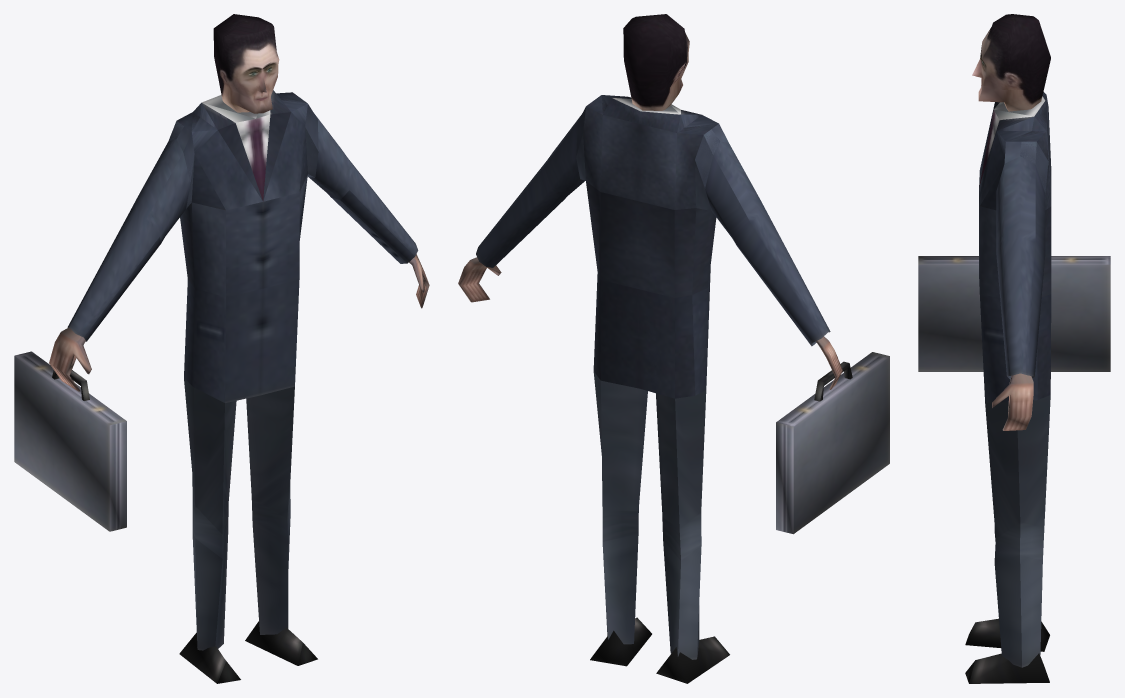
The model's file is G_Man.fbx.
3 renders of one model, left to right at view 1: azimuth 30°, elevation 25°; view 2: azimuth 150°, elevation 25°; view 3: azimuth 270°, elevation 25°, orthographic.
Parts seen in each view (by area): view 1: G_Man; view 2: G_Man; view 3: G_Man.
Boxes of the visible parts, <box> form: G_Man: <box>14,14,429,683</box>; G_Man: <box>458,14,889,683</box>; G_Man: <box>918,14,1110,683</box>.
Size of the model in its own units: 21.91 by 35.38 by 9.63.
Materials: 1 (1 with a texture image).
